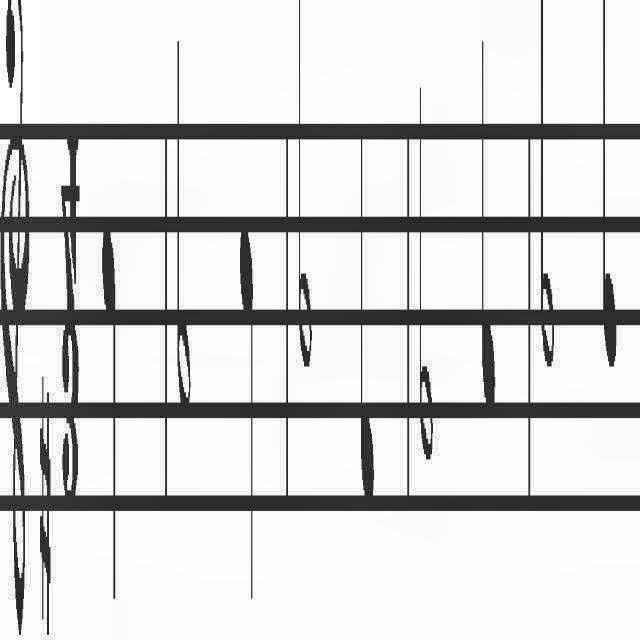Bass-clef: (1, 0, 30, 640)
Diez: (39, 376, 51, 640)
Half-note: (176, 23, 192, 424), (418, 78, 434, 470), (297, 0, 313, 376), (539, 0, 554, 376)
Quarter-note: (359, 124, 375, 514), (480, 32, 496, 416), (602, 0, 617, 376), (240, 224, 254, 612), (102, 227, 116, 609)
